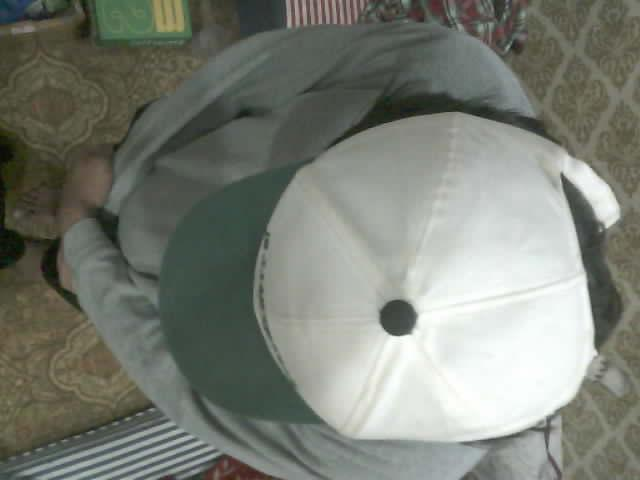cap: (158, 110, 621, 445)
